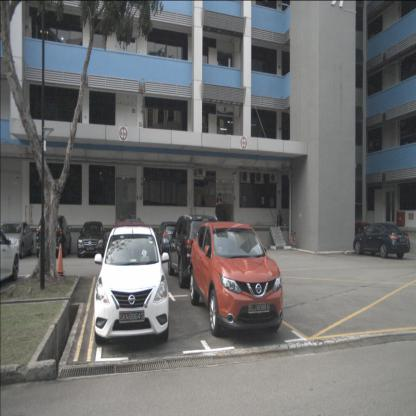human-pedestrian-adult: (215, 192, 222, 226), (277, 211, 283, 226)
movable_object-trafficcone: (56, 244, 65, 276)
vehicle-bicycle: (287, 229, 297, 249)
vehicle-car: (190, 221, 283, 337), (93, 224, 170, 346), (106, 217, 154, 299), (168, 215, 221, 288), (353, 223, 410, 258), (36, 214, 72, 258), (0, 221, 34, 258), (77, 220, 106, 259), (346, 221, 381, 252), (0, 230, 19, 287), (154, 222, 182, 256)
